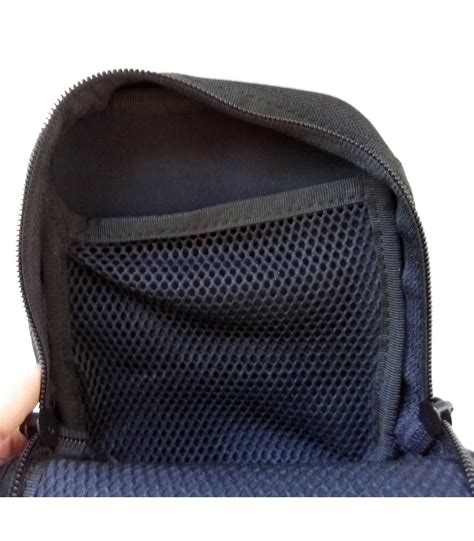nylon: (16, 68, 429, 507)
